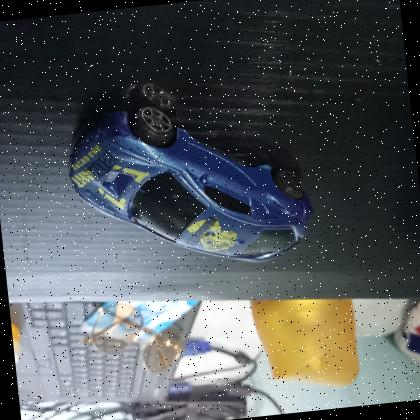Car: (57, 86, 320, 286)
